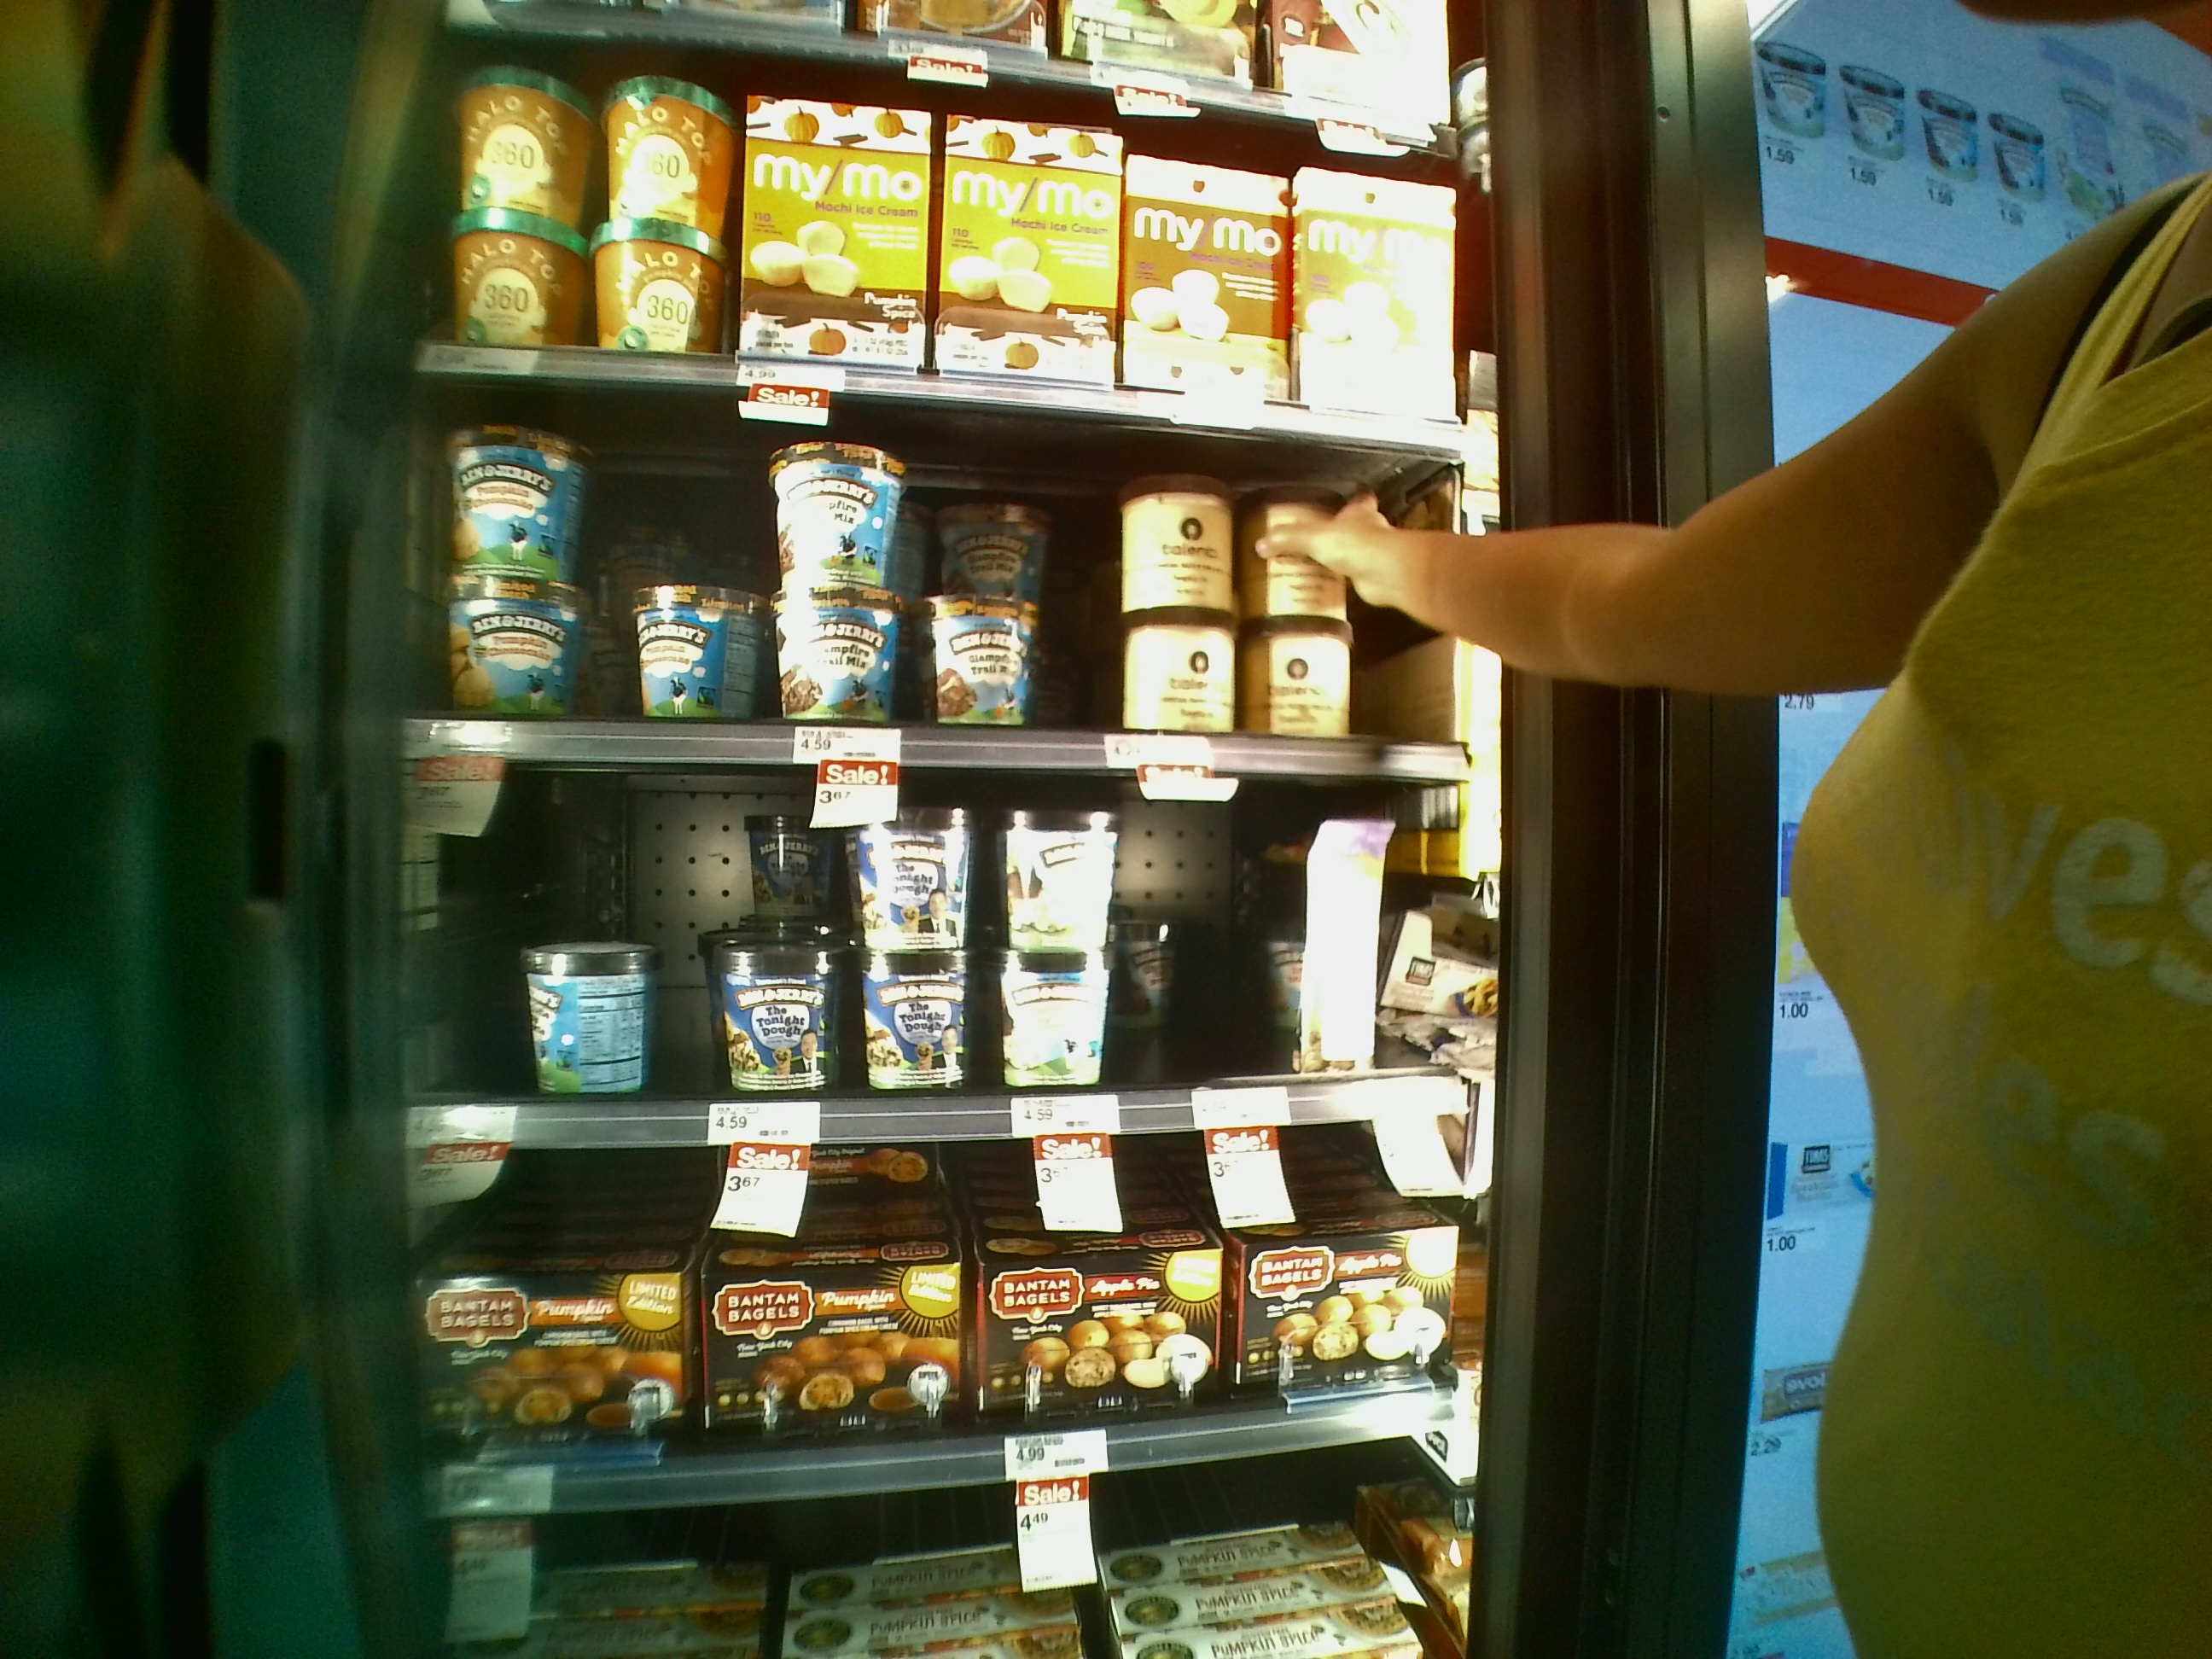shelf: (381, 742, 1468, 1122), (376, 1115, 1449, 1453)
